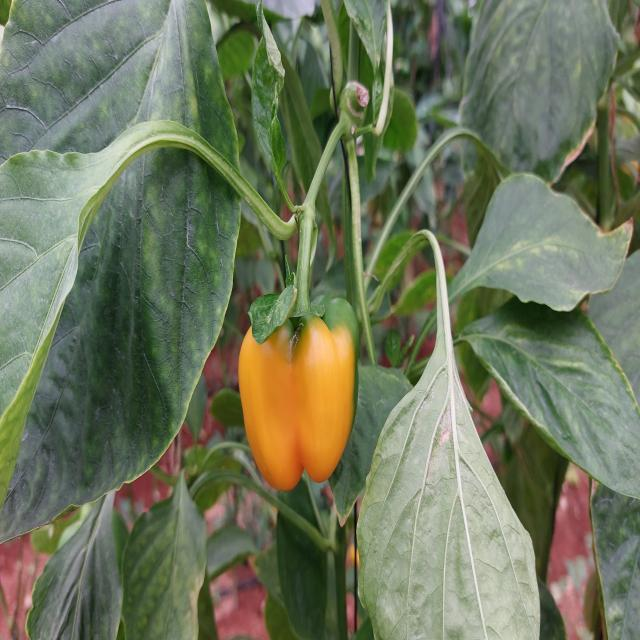Yellow-Ready-to-Harvest: (237, 324, 358, 495)
